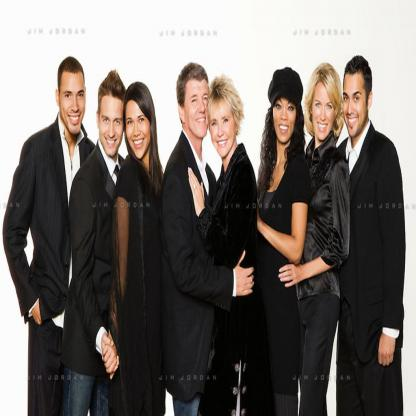face: (61, 70, 87, 135), (100, 93, 124, 158), (210, 100, 236, 159), (186, 79, 211, 139), (127, 100, 151, 160), (345, 75, 368, 137), (313, 86, 336, 139), (274, 93, 296, 144)
